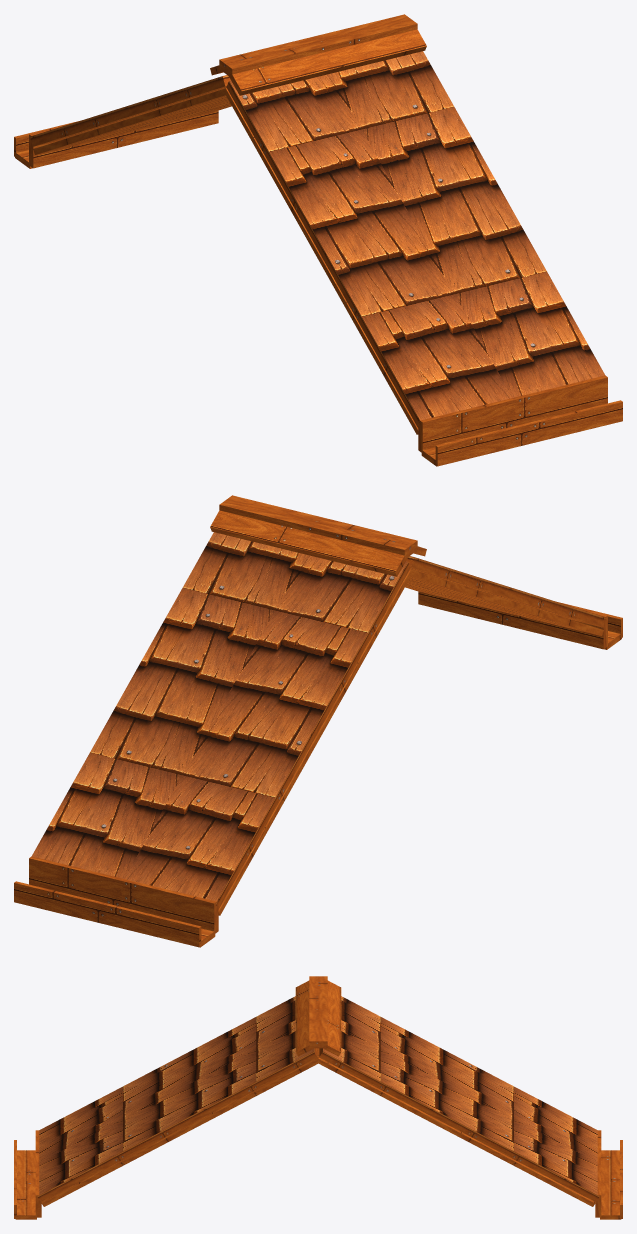
File: Roof3_Section_1m.fbx
The picture shows the model from 3 angles, top to bottom: view 1: azimuth 30°, elevation 25°; view 2: azimuth 150°, elevation 25°; view 3: azimuth 270°, elevation 25°; orthographic projection. The views are drawn at different scales.
Parts seen in each view (by area): view 1: Roof3_Section_1m; view 2: Roof3_Section_1m; view 3: Roof3_Section_1m.
Part boxes in pixels (x1,y1,x2,y2): Roof3_Section_1m: (14, 14, 622, 466); Roof3_Section_1m: (14, 495, 622, 947); Roof3_Section_1m: (14, 976, 622, 1219).
Bounding box in the file's own units: 1 × 1.28 × 3.96.
